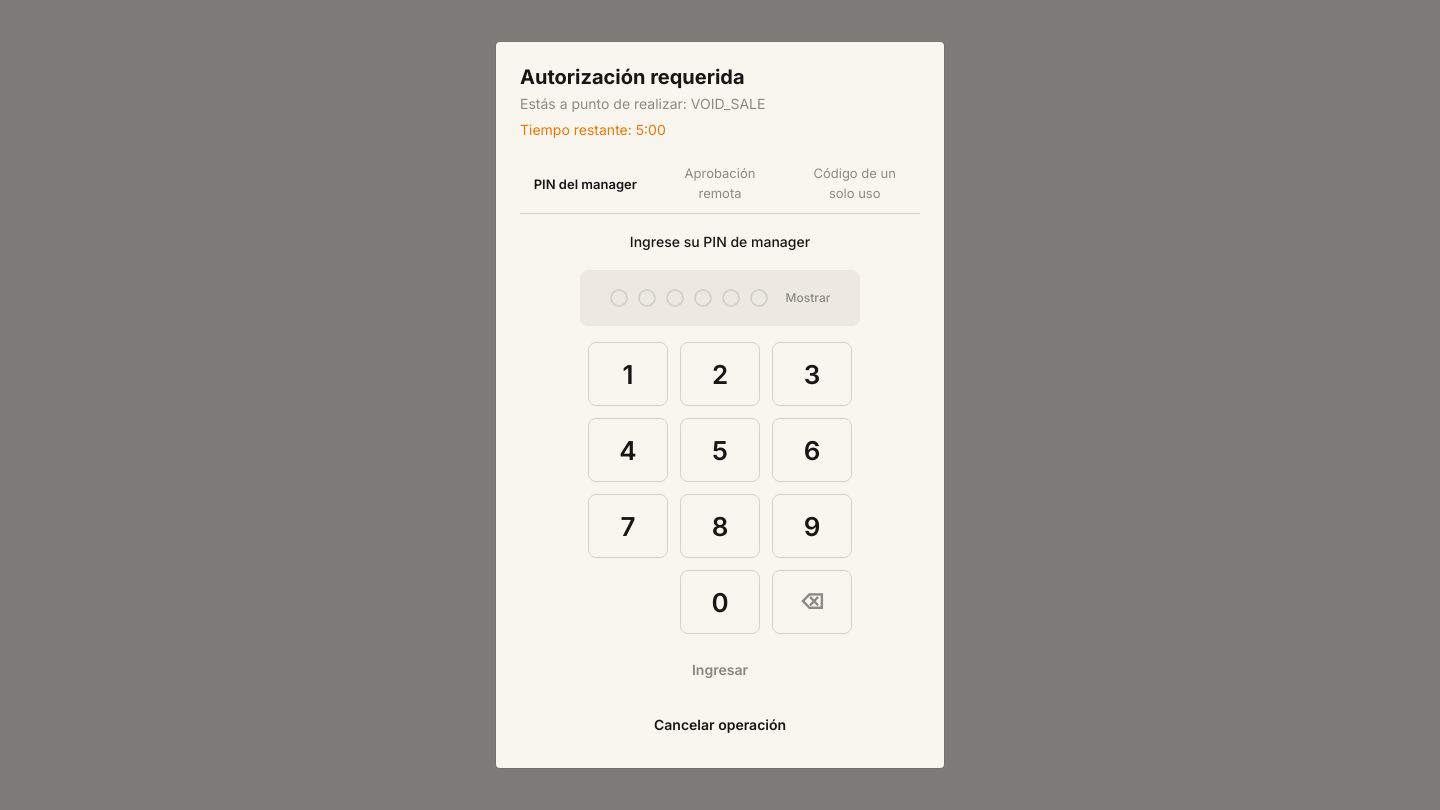
Scenario: StepUpModal › shows Remote tab with request button and instruction text
Click the button "Aprobación remota": (720, 185) [655,156,785,213]
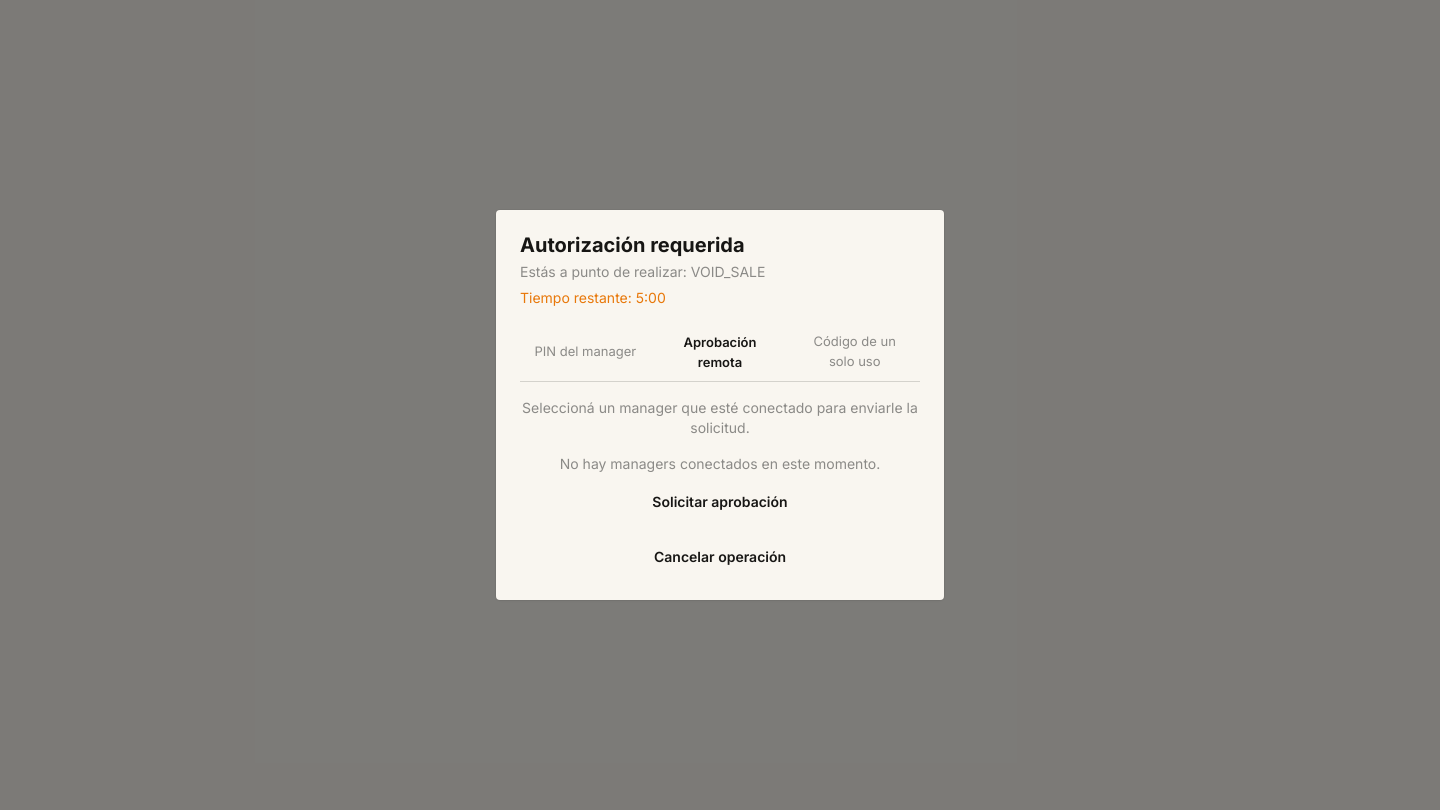
Check: the button "Solicitar aprobación" is shown, box [520,482,920,521]
